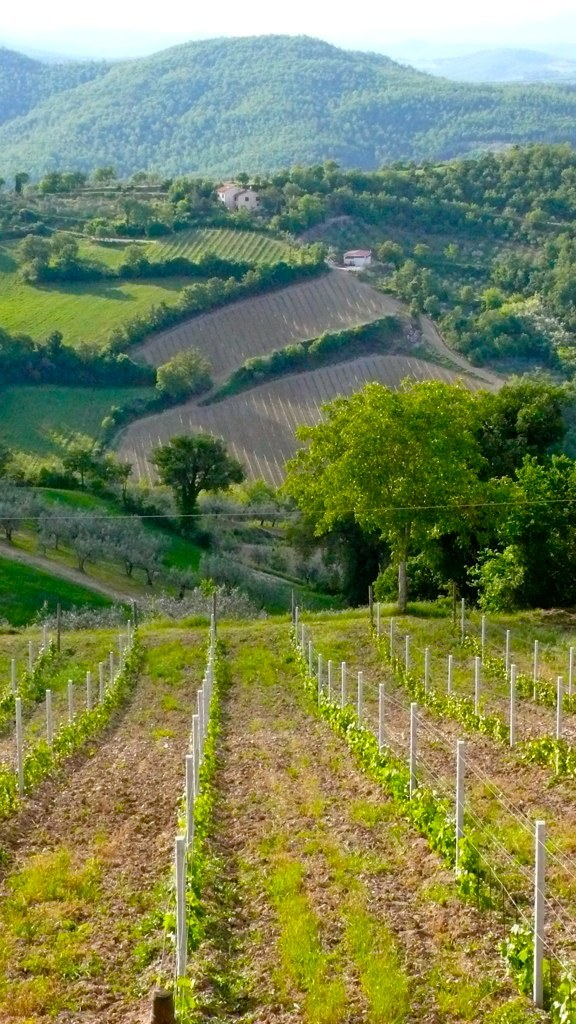Tree: (258, 135, 575, 373), (27, 243, 333, 396), (315, 384, 492, 622), (277, 373, 414, 615), (10, 163, 243, 231), (470, 371, 574, 504), (125, 421, 249, 529), (492, 464, 575, 618), (56, 448, 134, 494), (153, 344, 221, 394), (19, 238, 46, 282), (50, 234, 77, 275)
